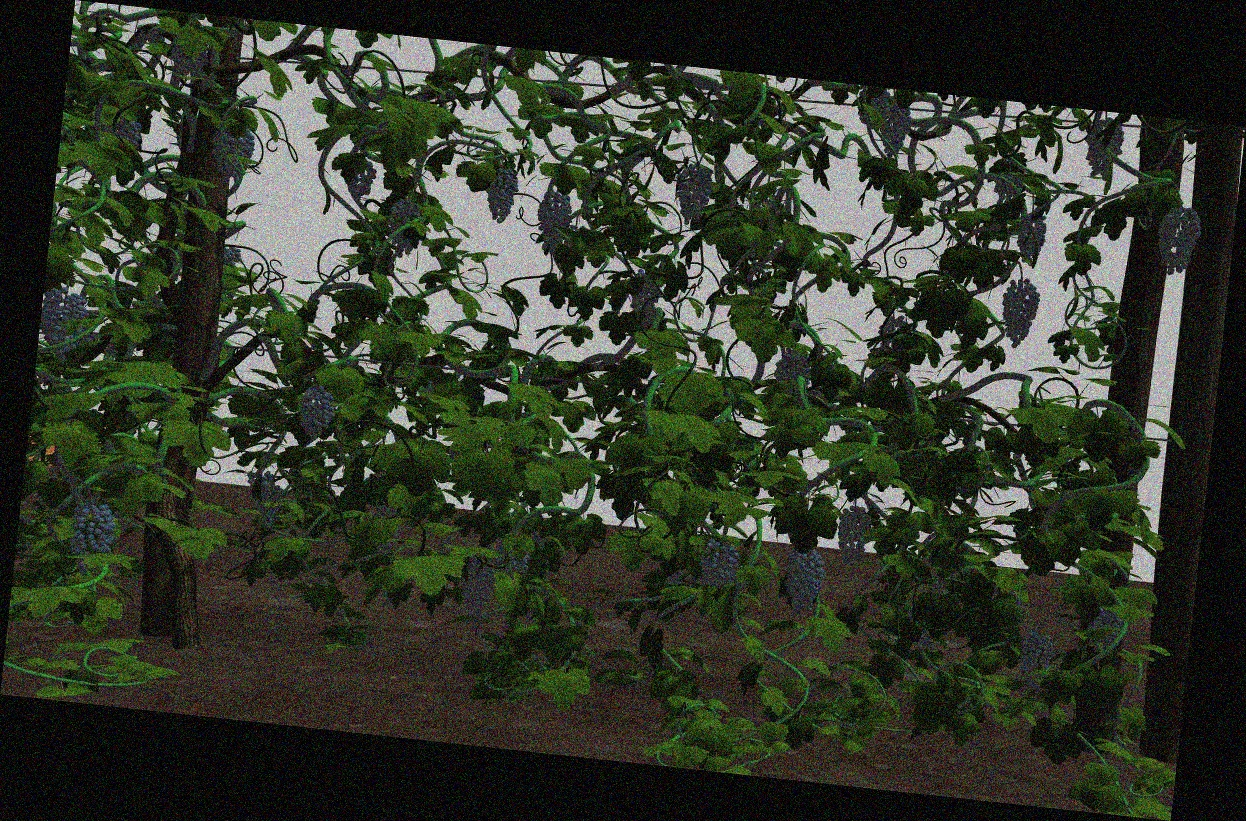grape: (41, 289, 88, 360), (1157, 206, 1203, 276), (67, 500, 118, 561), (784, 547, 826, 615), (1000, 277, 1039, 349), (675, 163, 718, 227), (457, 549, 496, 618), (535, 189, 574, 254), (834, 505, 873, 568), (1087, 118, 1125, 182), (210, 126, 254, 180), (484, 161, 519, 224), (700, 540, 741, 591), (389, 198, 422, 260), (1018, 630, 1053, 688), (298, 386, 336, 437), (881, 101, 912, 157), (1017, 216, 1047, 265), (774, 351, 812, 389), (855, 88, 892, 127), (1089, 612, 1122, 654), (348, 158, 376, 198)
